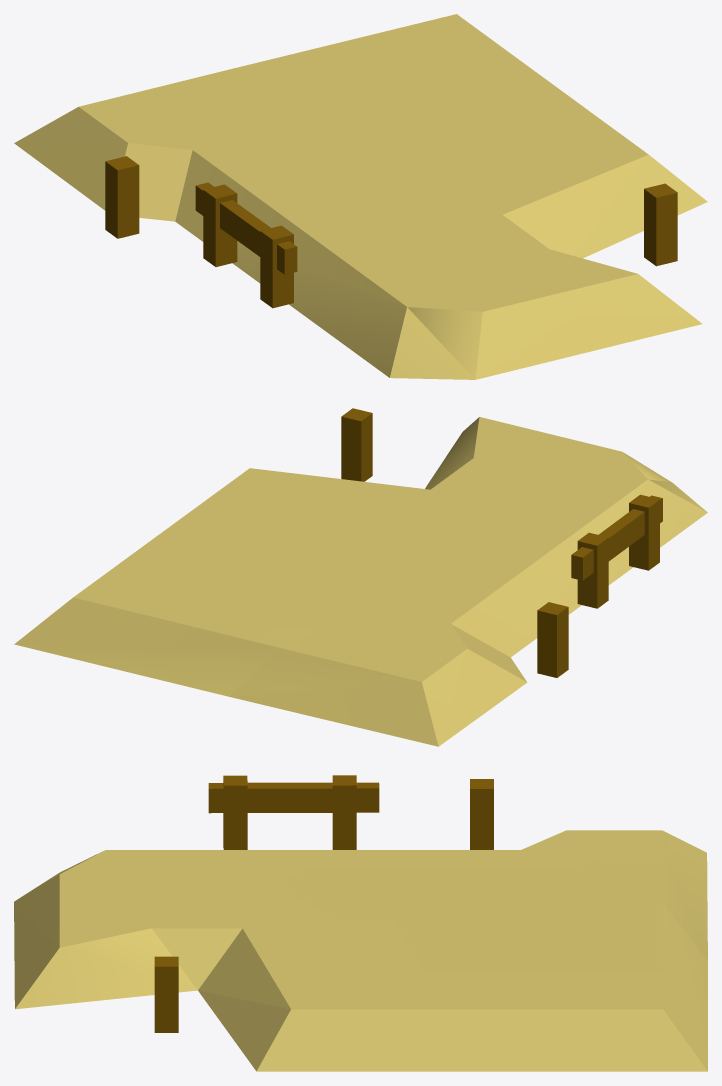
File: ThreeWayQuarterFilled2_1.fbx
The picture shows the model from 3 angles, top to bottom: view 1: azimuth 30°, elevation 25°; view 2: azimuth 150°, elevation 25°; view 3: azimuth 270°, elevation 25°; orthographic projection. The views are drawn at different scales.
Parts seen in each view (by area): view 1: Normal - Three Way Quarter Filled 2.001; view 2: Normal - Three Way Quarter Filled 2.001; view 3: Normal - Three Way Quarter Filled 2.001.
Boxes of the visible parts, x1,y1,x2,y2 form: Normal - Three Way Quarter Filled 2.001: (14, 14, 707, 379); Normal - Three Way Quarter Filled 2.001: (14, 408, 707, 746); Normal - Three Way Quarter Filled 2.001: (14, 775, 707, 1071).
Size of the model in its own units: 116 by 19.71 by 150.
